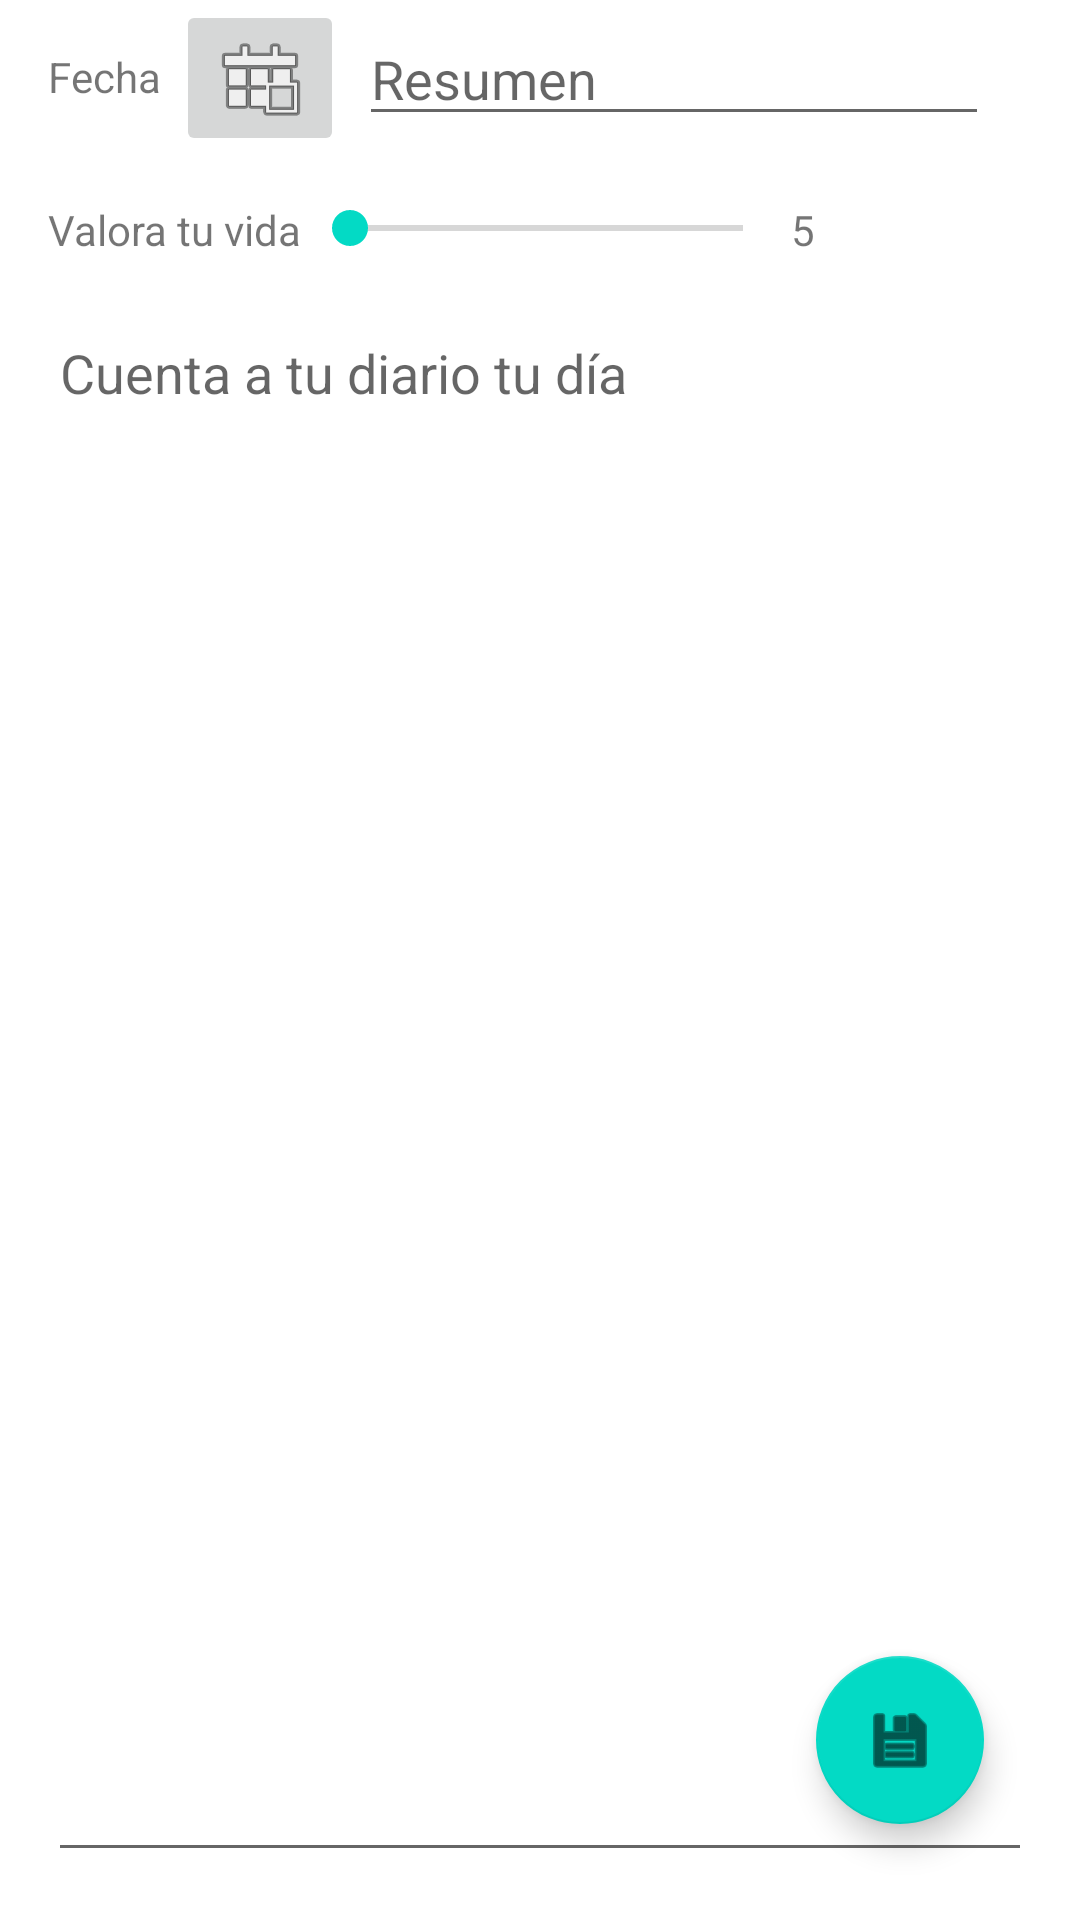

Icons on this 1080×1920 Android screen, each with the point to tap as (x=x, y=y):
save: (x=900, y=1740)
today: (x=260, y=78)
